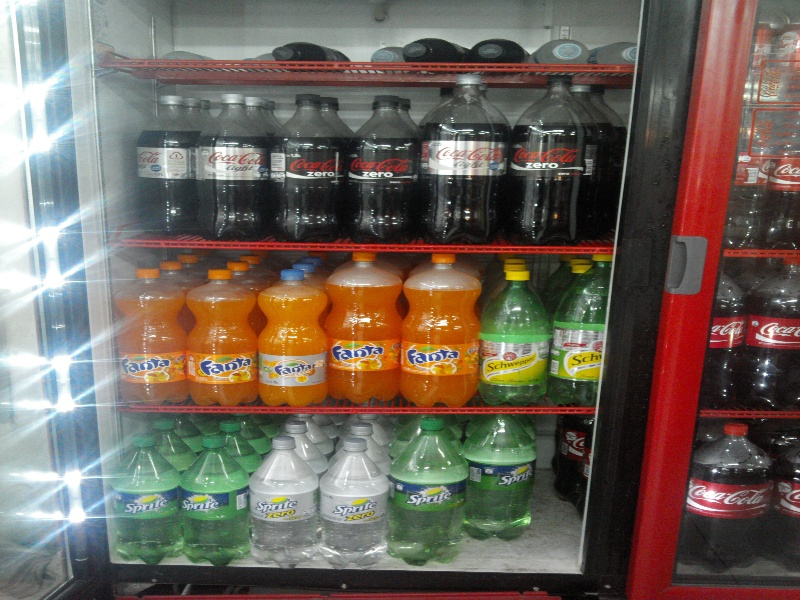lemonade: (499, 76, 597, 244), (416, 74, 503, 245), (400, 257, 483, 406), (322, 254, 401, 402), (345, 96, 419, 250), (266, 95, 343, 241), (111, 269, 190, 406), (196, 92, 267, 241), (254, 268, 330, 406), (393, 419, 462, 568), (245, 439, 325, 563), (185, 269, 256, 406), (177, 434, 249, 566), (464, 414, 539, 540), (485, 270, 551, 402), (325, 440, 393, 566)
